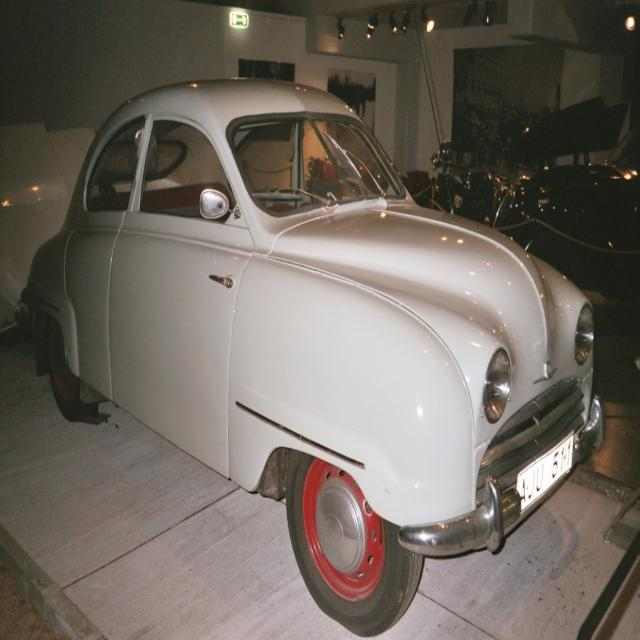car: (21, 71, 606, 636)
